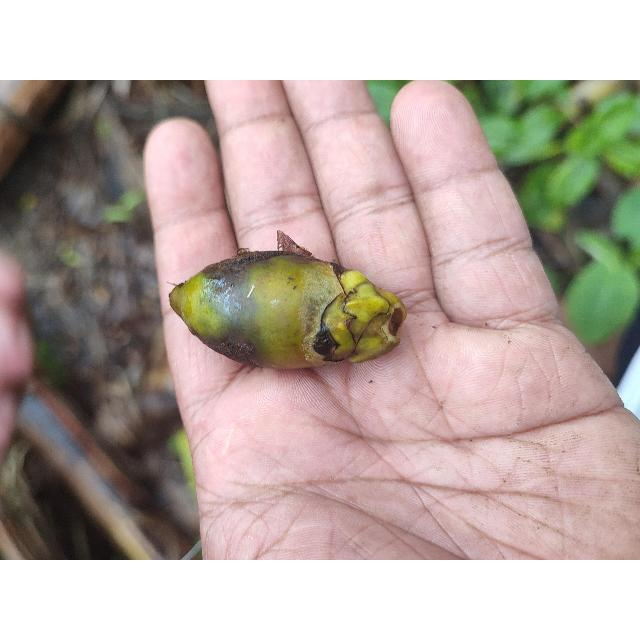damaged: (168, 251, 406, 372)
